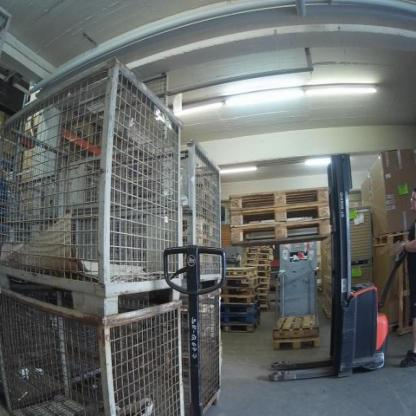pallet: (230, 215, 331, 247), (229, 186, 329, 214), (227, 203, 333, 228), (320, 227, 337, 322), (397, 247, 415, 333), (272, 314, 320, 341), (374, 232, 413, 250), (221, 317, 261, 333), (274, 337, 322, 350), (221, 310, 261, 325), (221, 299, 260, 312), (221, 291, 260, 304), (222, 283, 261, 295), (222, 273, 261, 285), (225, 265, 258, 277), (244, 253, 275, 261), (245, 247, 274, 255), (245, 259, 272, 267), (246, 264, 271, 272), (256, 270, 271, 277), (260, 297, 271, 306), (259, 287, 272, 294), (260, 292, 271, 300), (259, 282, 271, 289), (260, 305, 270, 312), (260, 277, 271, 283)
pallet_truck: (265, 147, 407, 383), (157, 245, 226, 415)
stillage: (1, 54, 189, 321), (65, 129, 227, 286), (1, 290, 186, 415), (112, 285, 229, 415), (340, 205, 378, 263), (346, 261, 373, 304)
